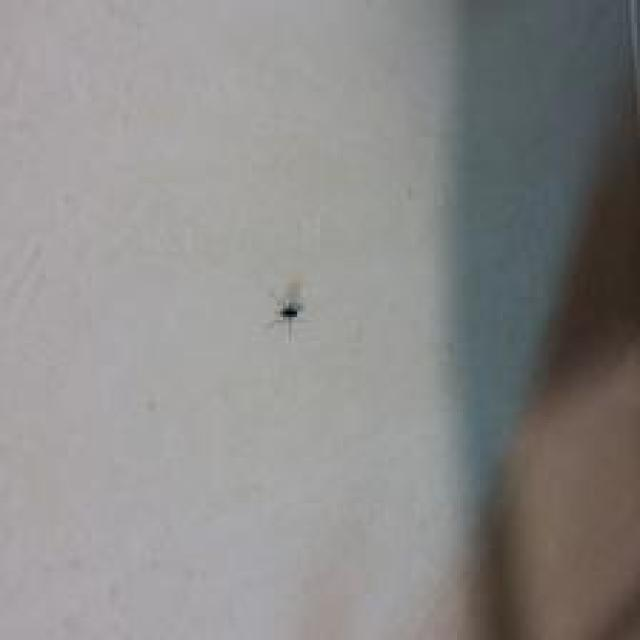Aedes albopictus: (270, 278, 307, 342)
